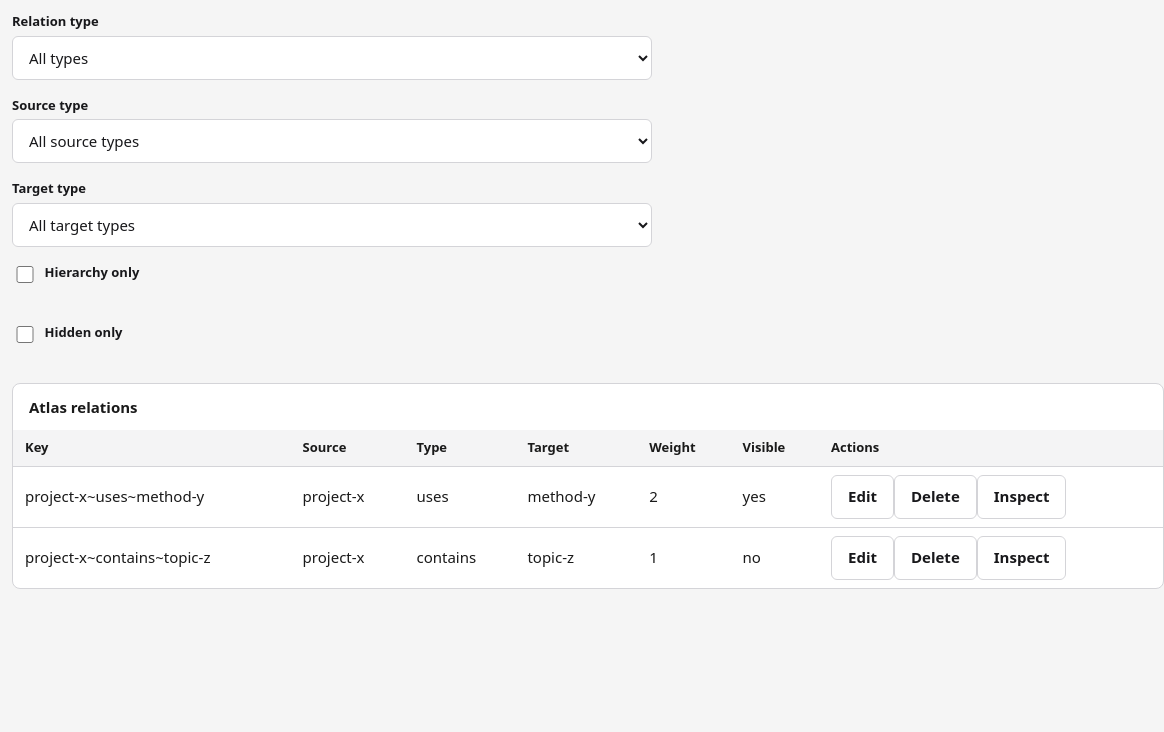
it: RelationTable (Plan B Task 12) › filters by relation type, endpoint types and visibility
Select "uses" in the dropdown labelled "Relation type" at (332, 58), box left=12, top=36, right=652, bottom=80
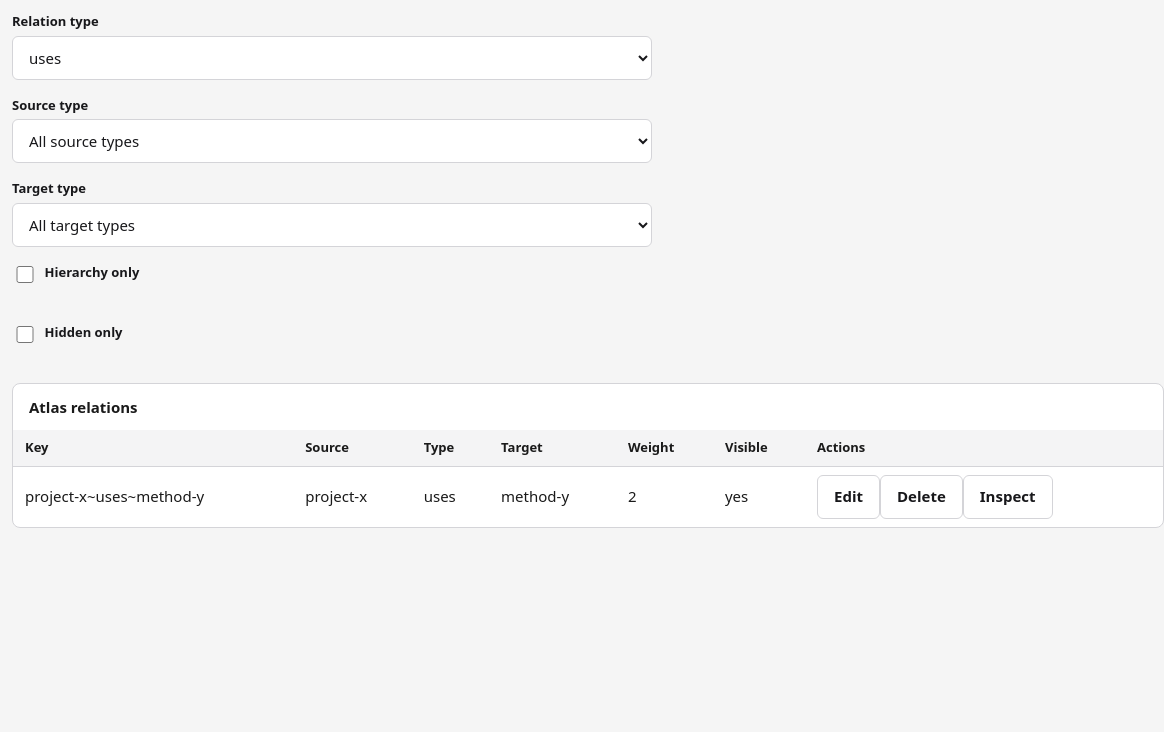
Expected: the text "project-x~uses~method-y" is shown, left=13, top=466, right=293, bottom=526
Result: the text "project-x~contains~topic-z" is gone
Select "All types" in the dropdown labelled "Relation type" at (332, 58), box left=12, top=36, right=652, bottom=80
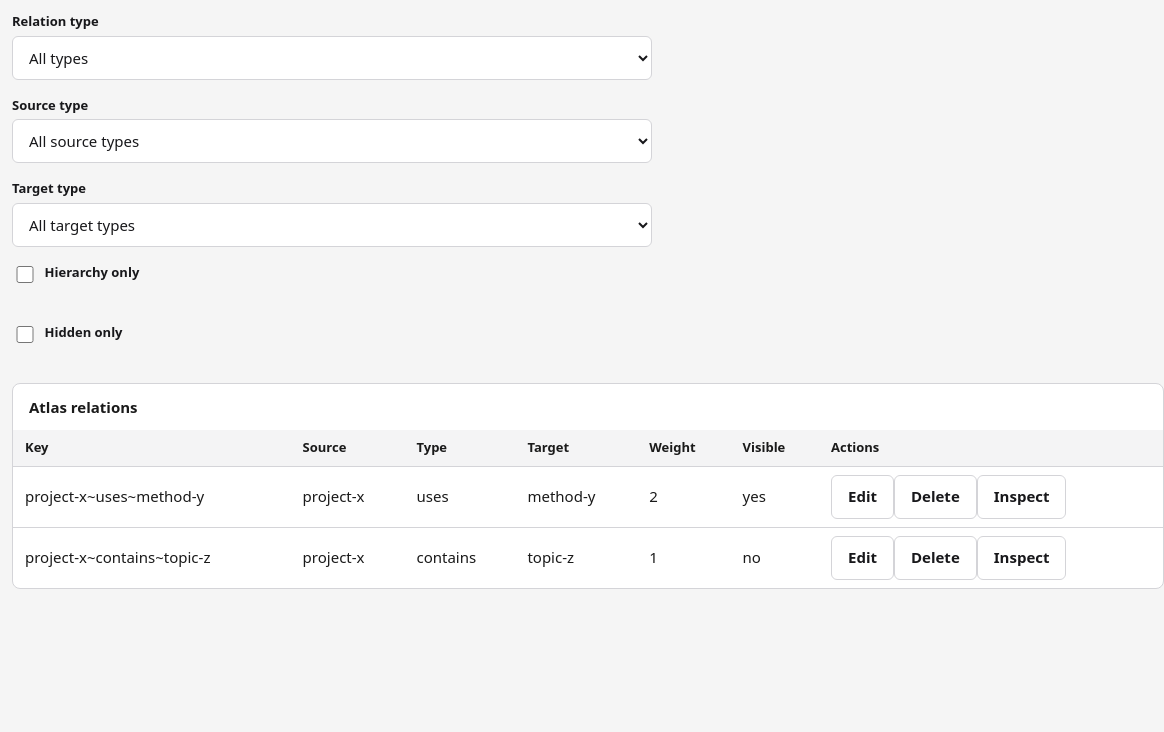
Click the checkbox labelled "Hidden only" at (25, 334), box left=16, top=326, right=34, bottom=343
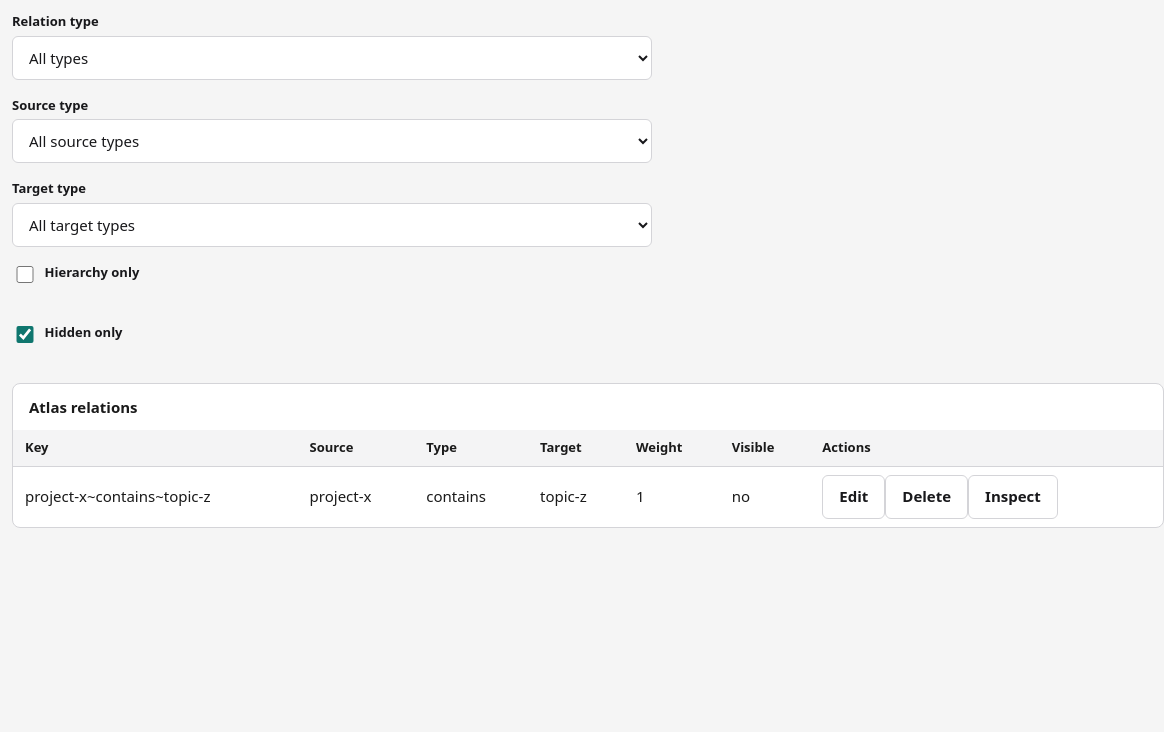
Result: the text "project-x~contains~topic-z" is shown at left=13, top=466, right=298, bottom=526
Result: the text "project-x~uses~method-y" is gone
